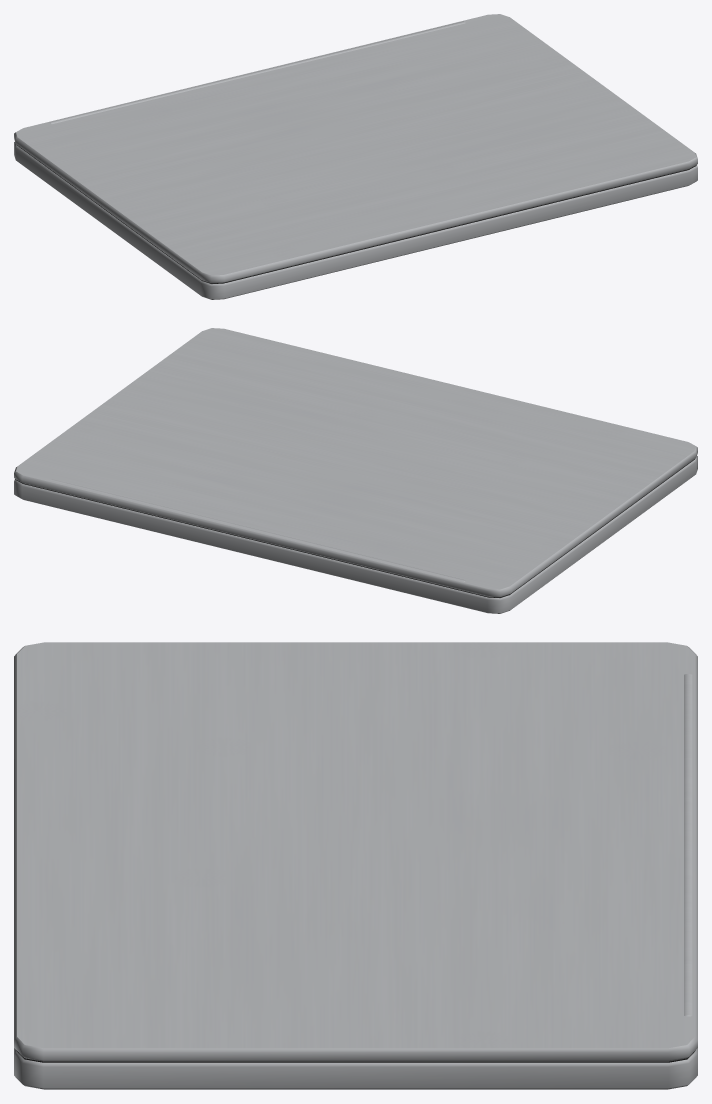
The model's file is laptop.glb.
3 views of the same model, one above another, from view 1: azimuth 30°, elevation 25°; view 2: azimuth 150°, elevation 25°; view 3: azimuth 270°, elevation 25° (orthographic). The views are drawn at different scales.
Parts seen in each view (by area): view 1: laptop; view 2: laptop; view 3: laptop.
Part boxes in pixels (x1,y1,x2,y2): laptop: (14,14,697,299); laptop: (14,328,697,613); laptop: (14,642,697,1089).
Size of the model in its own units: 0.3126 by 0.0159 by 0.2212.
Materials: 6 (5 with a texture image).
